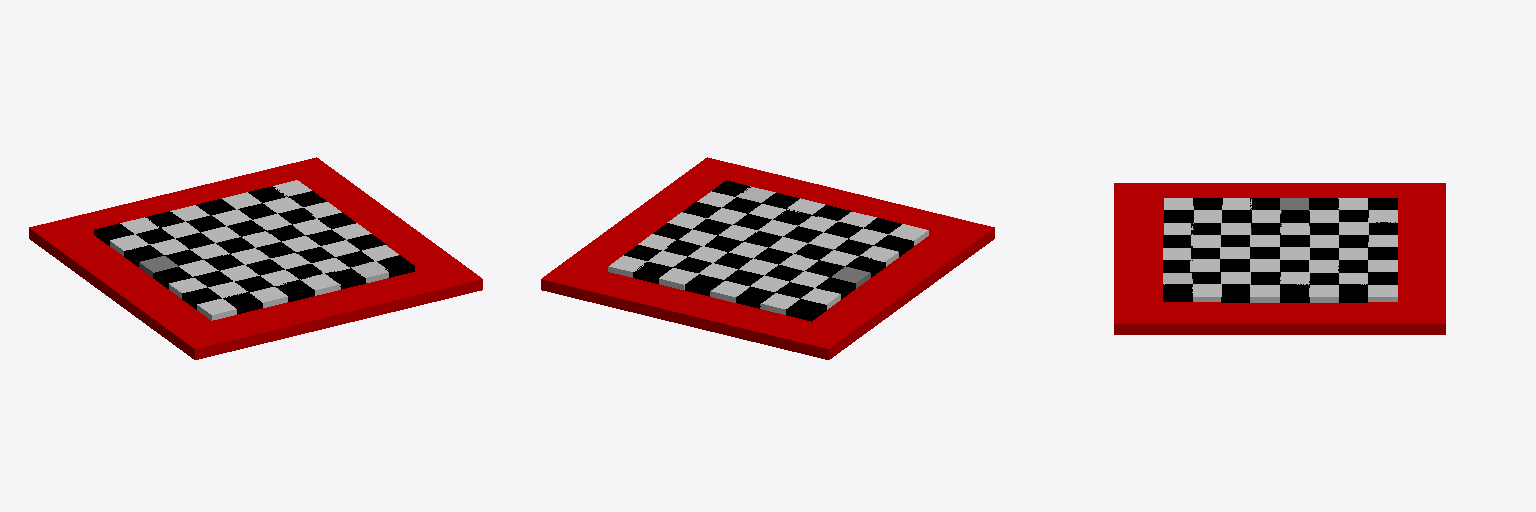
File: chessboard.obj
3 views of the same model, side by side, from view 1: azimuth 30°, elevation 25°; view 2: azimuth 150°, elevation 25°; view 3: azimuth 270°, elevation 25° (orthographic).
Parts seen in each view (by area): view 1: Cube, Plane.051_0; view 2: Cube, Plane.070_0, Plane.071_0; view 3: Cube, Plane.003_0, Plane.062_0, Plane.027_0, Plane.028_0, Plane.060_0, Plane.022_0.
Boxes of the visible parts, box(x1,y1,x2,y2) form: Cube: box(29, 157, 482, 359); Plane.051_0: box(197, 298, 236, 320); Cube: box(541, 157, 994, 359); Plane.070_0: box(786, 299, 826, 321); Plane.071_0: box(659, 268, 698, 289); Cube: box(1114, 183, 1445, 334); Plane.003_0: box(1280, 284, 1309, 302); Plane.062_0: box(1339, 284, 1367, 302); Plane.027_0: box(1250, 284, 1279, 302); Plane.028_0: box(1221, 284, 1249, 302); Plane.060_0: box(1163, 284, 1192, 301); Plane.022_0: box(1309, 285, 1338, 302).
Bounding box in the file's own units: 11.15 × 0.6165 × 11.15.